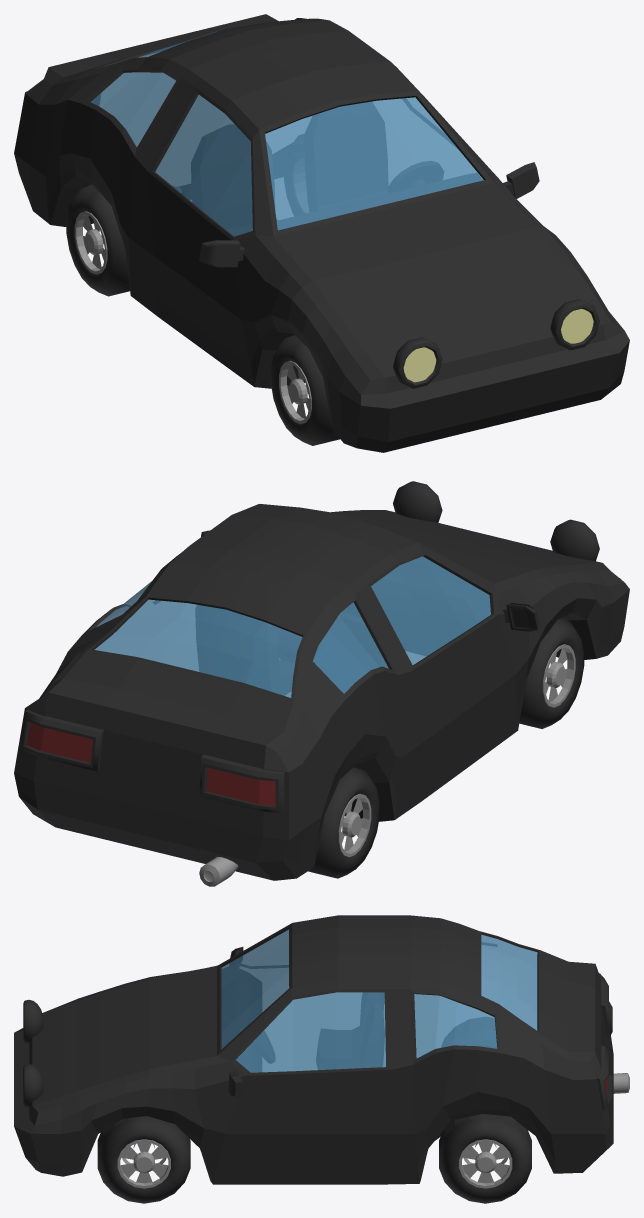
The model's file is toyo_evo1_black_black.glb.
The picture shows the model from 3 angles, top to bottom: view 1: azimuth 30°, elevation 25°; view 2: azimuth 150°, elevation 25°; view 3: azimuth 270°, elevation 25°; orthographic projection. The views are drawn at different scales.
Parts seen in each view (by area): view 1: body:PIV, glass_front:PIV, glass_rf:PIV, seat_l:PIV, seat_r:PIV, tire_rb:PIV, tire_rf:PIV, glass_rb:PIV, int_front_bloc3:PIV, rim_rb:PIV, rim_rf:PIV, headlight_rf:PIV (+7 smaller); view 2: body:PIV, glass_back:PIV, glass_rf:PIV, int_front_bloc3:PIV, seat_l:PIV, glass_rb:PIV, tire_rb:PIV, tire_rf:PIV, seat_r:PIV, backlight_rb, backlight_lb, backlight_glass_rb:PIV (+8 smaller); view 3: body:PIV, glass_lf:PIV, tire_lb:PIV, glass_front:PIV, tire_lf:PIV, glass_back:PIV, glass_lb:PIV, int_front_bloc3:PIV, seat_r:PIV, rim_lf:PIV, rim_lb:PIV, tire_rb:PIV (+6 smaller).
Part boxes in pixels (bbox=[...]): body:PIV: bbox=[14, 14, 629, 452]; glass_front:PIV: bbox=[265, 97, 483, 230]; glass_rf:PIV: bbox=[155, 94, 252, 236]; seat_l:PIV: bbox=[304, 102, 387, 211]; seat_r:PIV: bbox=[191, 125, 274, 235]; tire_rb:PIV: bbox=[66, 185, 129, 296]; tire_rf:PIV: bbox=[270, 335, 339, 445]; glass_rb:PIV: bbox=[90, 72, 175, 146]; int_front_bloc3:PIV: bbox=[277, 173, 481, 229]; rim_rb:PIV: bbox=[74, 211, 107, 274]; rim_rf:PIV: bbox=[279, 361, 311, 424]; headlight_rf:PIV: bbox=[393, 337, 442, 388]; body:PIV: bbox=[14, 504, 629, 880]; glass_back:PIV: bbox=[94, 599, 302, 697]; glass_rf:PIV: bbox=[371, 556, 490, 664]; int_front_bloc3:PIV: bbox=[343, 564, 490, 655]; seat_l:PIV: bbox=[196, 605, 294, 694]; glass_rb:PIV: bbox=[313, 602, 388, 693]; tire_rb:PIV: bbox=[308, 767, 379, 878]; tire_rf:PIV: bbox=[519, 618, 584, 728]; seat_r:PIV: bbox=[313, 613, 387, 692]; backlight_rb: bbox=[199, 754, 284, 813]; backlight_lb: bbox=[19, 709, 103, 771]; backlight_glass_rb:PIV: bbox=[206, 767, 275, 806]; body:PIV: bbox=[14, 915, 613, 1184]; glass_lf:PIV: bbox=[236, 992, 385, 1072]; tire_lb:PIV: bbox=[439, 1114, 531, 1203]; glass_front:PIV: bbox=[221, 929, 289, 1048]; tire_lf:PIV: bbox=[97, 1116, 190, 1203]; glass_back:PIV: bbox=[481, 934, 537, 1030]; glass_lb:PIV: bbox=[414, 994, 497, 1058]; int_front_bloc3:PIV: bbox=[222, 966, 261, 1071]; seat_r:PIV: bbox=[316, 993, 383, 1069]; rim_lf:PIV: bbox=[117, 1139, 170, 1188]; rim_lb:PIV: bbox=[459, 1139, 512, 1188]; tire_rb:PIV: bbox=[442, 1017, 496, 1047].
Size of the model in its own units: 180 by 129 by 338.
